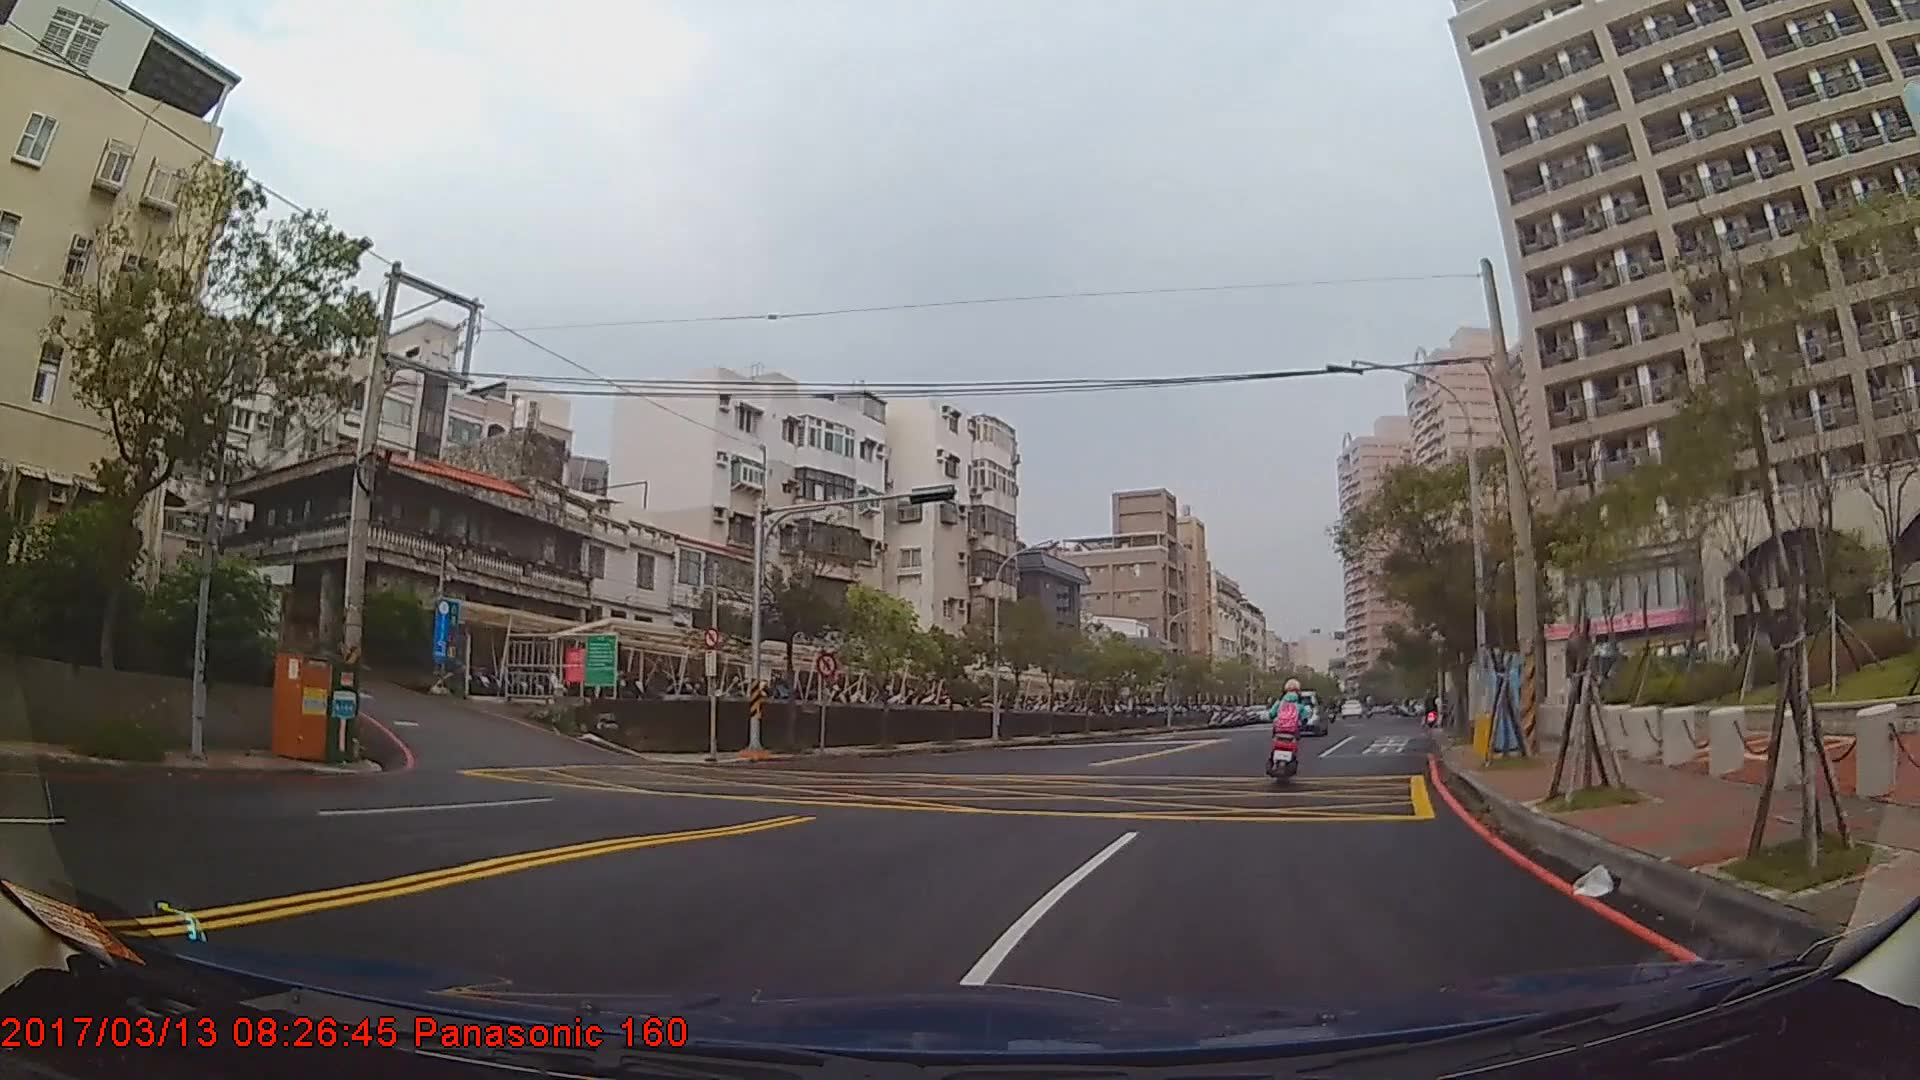rider: (1266, 679, 1313, 781)
vehicle: (1269, 686, 1329, 735)
